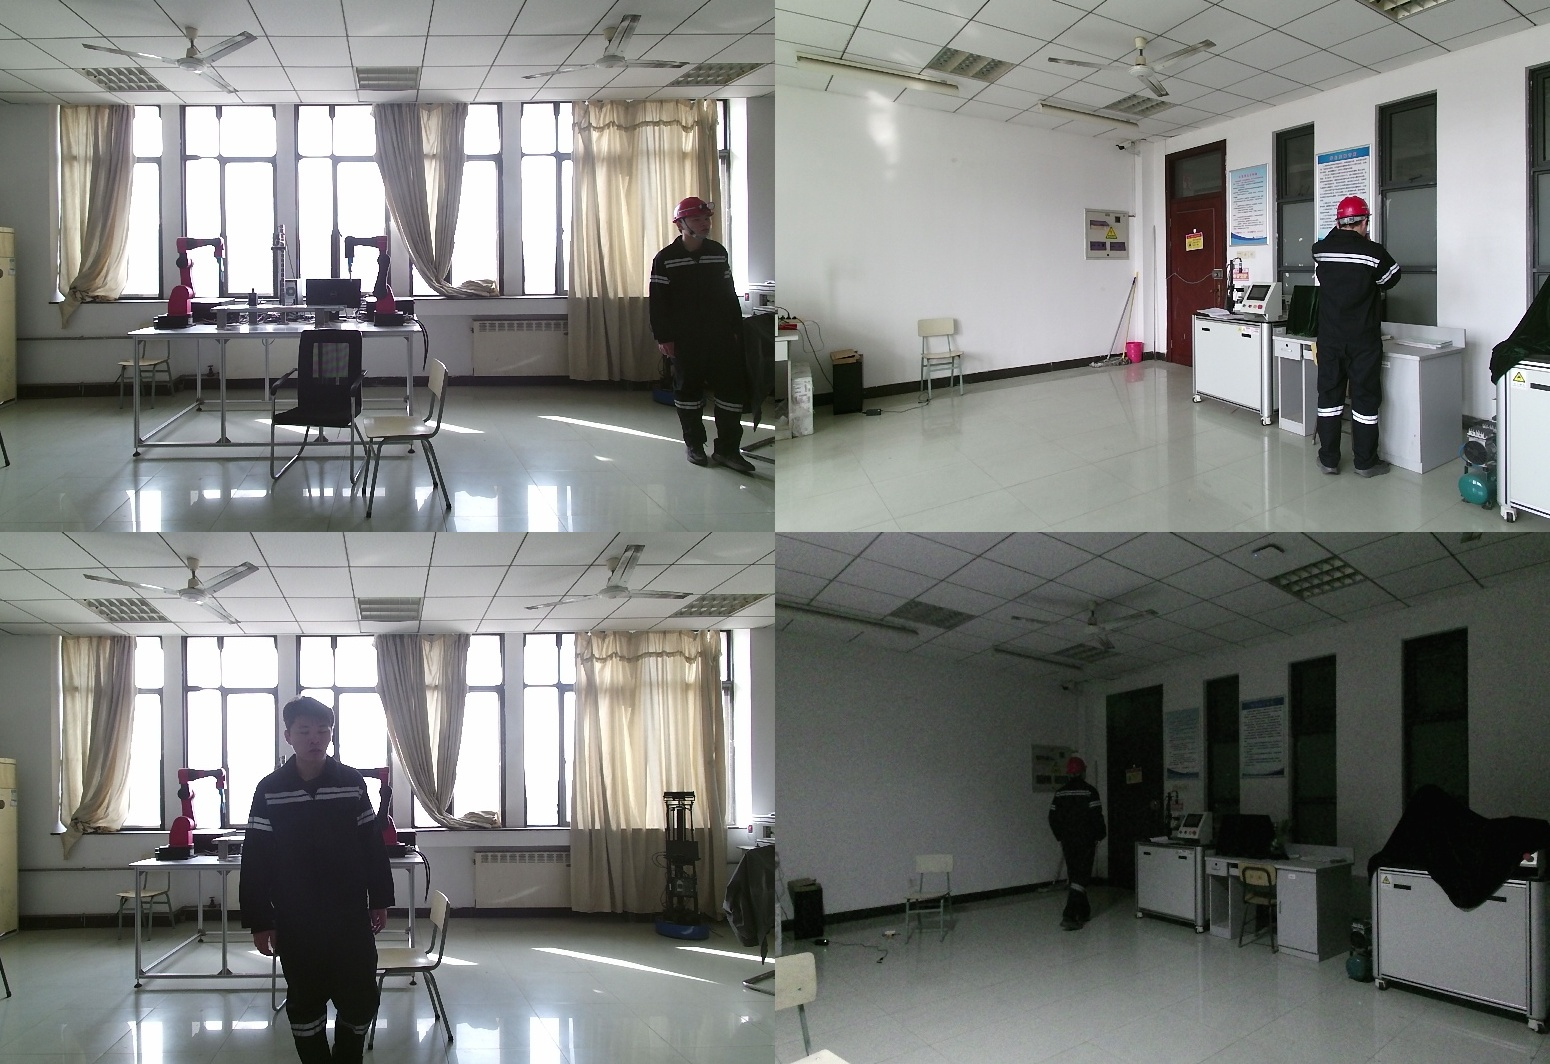person: (244, 700, 401, 1064), (1307, 195, 1428, 478), (651, 199, 757, 470), (1032, 756, 1108, 945)
